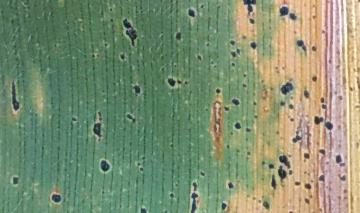tarspot: (120, 15, 141, 48), (90, 108, 106, 143), (186, 177, 201, 213), (8, 77, 21, 114), (295, 37, 309, 57), (278, 80, 295, 96), (97, 157, 112, 174), (242, 1, 257, 17), (278, 153, 293, 169), (278, 3, 290, 20), (50, 191, 65, 204), (124, 111, 139, 124), (185, 5, 197, 20), (277, 163, 286, 183), (131, 83, 141, 97), (173, 28, 183, 42), (324, 119, 334, 133), (270, 172, 277, 192), (230, 97, 242, 108), (313, 114, 324, 126), (291, 134, 303, 145), (11, 174, 21, 187), (166, 76, 176, 88), (233, 120, 243, 132), (302, 152, 312, 164), (288, 10, 298, 22), (137, 204, 150, 213), (334, 152, 342, 166), (118, 51, 128, 62), (226, 180, 236, 191), (219, 200, 228, 212), (302, 88, 311, 100), (354, 74, 360, 91), (69, 114, 79, 124), (213, 86, 224, 95), (337, 171, 346, 182), (261, 199, 270, 210), (249, 40, 258, 50), (310, 74, 319, 84), (316, 173, 326, 182), (267, 162, 277, 171), (228, 38, 237, 47), (229, 49, 238, 58), (102, 41, 111, 50), (221, 105, 231, 113), (318, 147, 326, 157), (310, 44, 318, 54), (210, 59, 218, 69), (158, 30, 164, 43), (247, 16, 255, 25), (235, 46, 243, 55), (320, 103, 329, 111), (287, 115, 296, 123), (302, 169, 311, 177), (107, 5, 115, 14), (158, 54, 167, 62), (251, 99, 259, 107), (229, 60, 236, 69), (195, 53, 202, 62), (168, 190, 175, 199), (294, 179, 301, 188), (286, 168, 293, 177), (287, 102, 294, 111), (334, 63, 341, 72), (245, 124, 251, 134), (319, 96, 326, 104), (303, 182, 311, 189), (244, 192, 251, 200), (252, 114, 260, 121), (241, 81, 248, 89), (320, 28, 328, 35), (278, 100, 287, 106), (260, 158, 266, 167), (354, 140, 360, 149), (198, 2, 203, 12), (241, 33, 248, 40), (134, 160, 141, 167), (168, 141, 175, 148), (337, 162, 344, 169), (304, 197, 311, 204), (245, 149, 252, 156), (292, 29, 299, 36), (275, 69, 282, 76), (183, 78, 189, 86), (177, 78, 183, 86), (137, 166, 145, 172), (199, 170, 205, 178), (241, 71, 247, 79), (336, 94, 342, 102), (354, 103, 360, 111), (275, 128, 281, 136), (280, 64, 288, 70), (244, 136, 250, 144), (95, 52, 101, 60), (225, 143, 231, 150), (327, 58, 333, 65), (108, 17, 115, 23), (285, 209, 295, 213), (252, 194, 257, 202), (257, 197, 262, 205), (204, 41, 210, 47), (141, 155, 147, 161), (311, 13, 317, 19), (90, 52, 96, 58), (160, 66, 165, 73), (274, 64, 279, 71), (348, 86, 353, 93), (162, 209, 169, 213), (356, 1, 360, 4)
